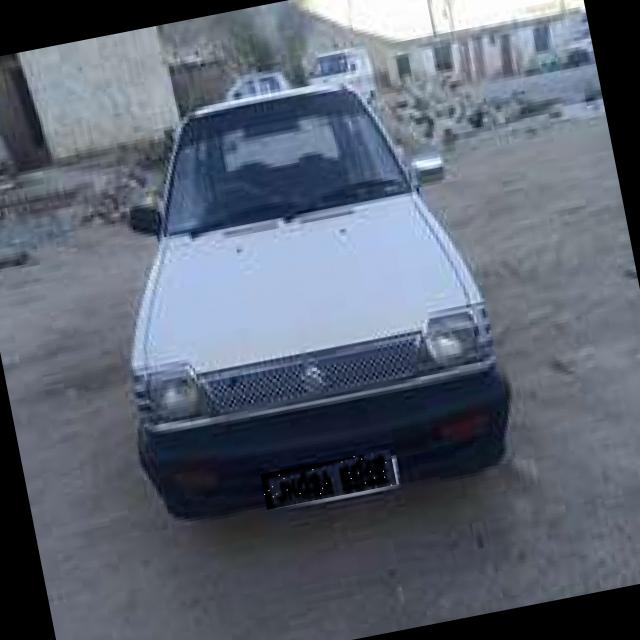Plate: (262, 451, 398, 512)
